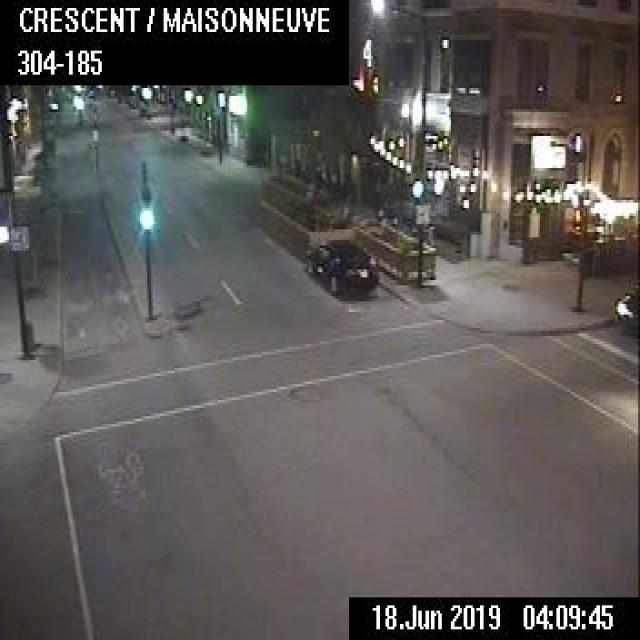vehicle: (308, 234, 377, 298), (613, 279, 638, 334)
